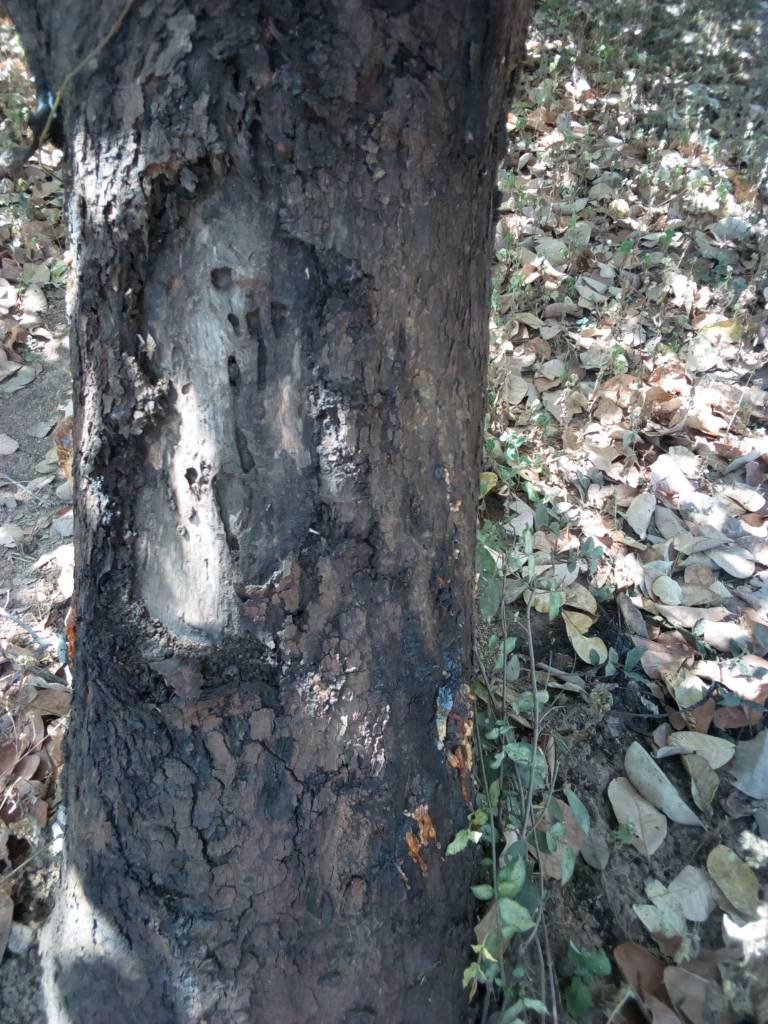Gommose: (72, 85, 375, 935)
